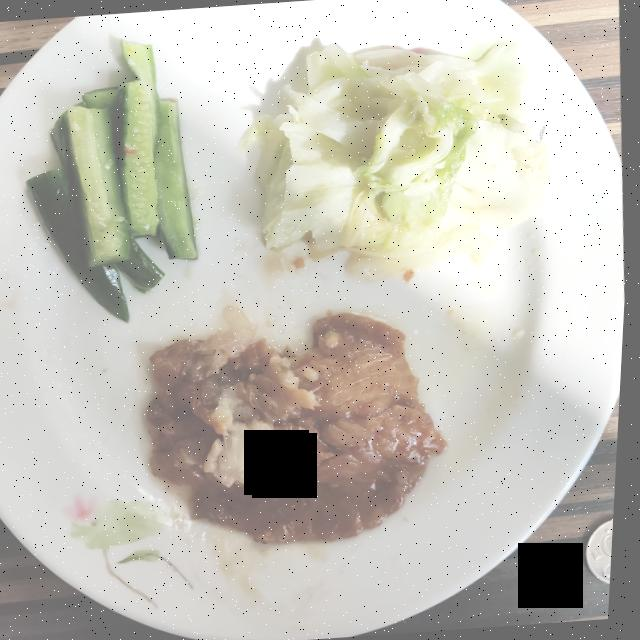Kabayaki sea bream fillet: (151, 313, 450, 542)
cabbage: (247, 41, 554, 271)
coin: (592, 518, 619, 584)
cucumber: (28, 40, 199, 321)
